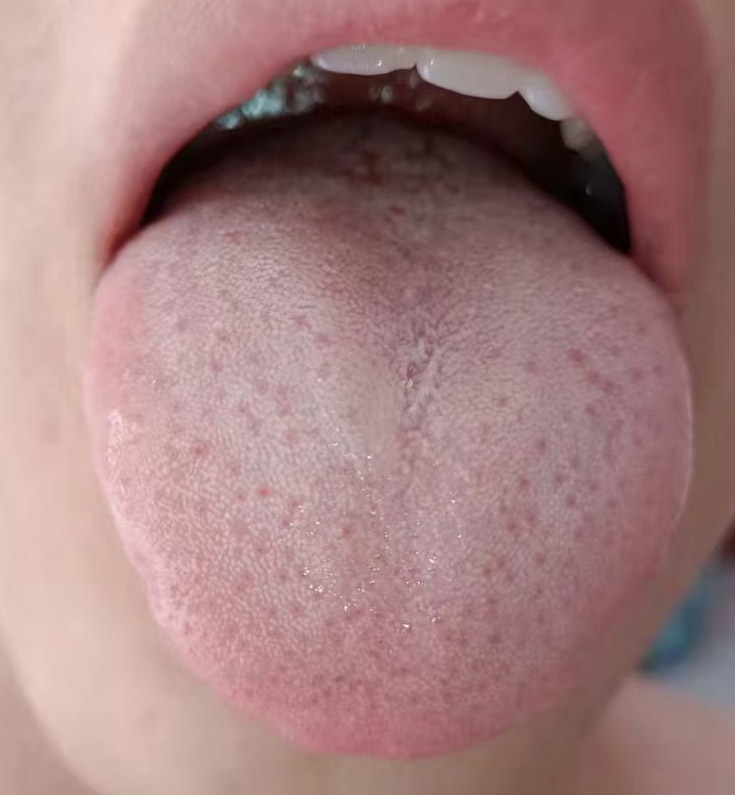baitaishe: (84, 135, 693, 760)
hongdianshe: (476, 335, 635, 610)
pangdashe: (84, 135, 693, 760)
